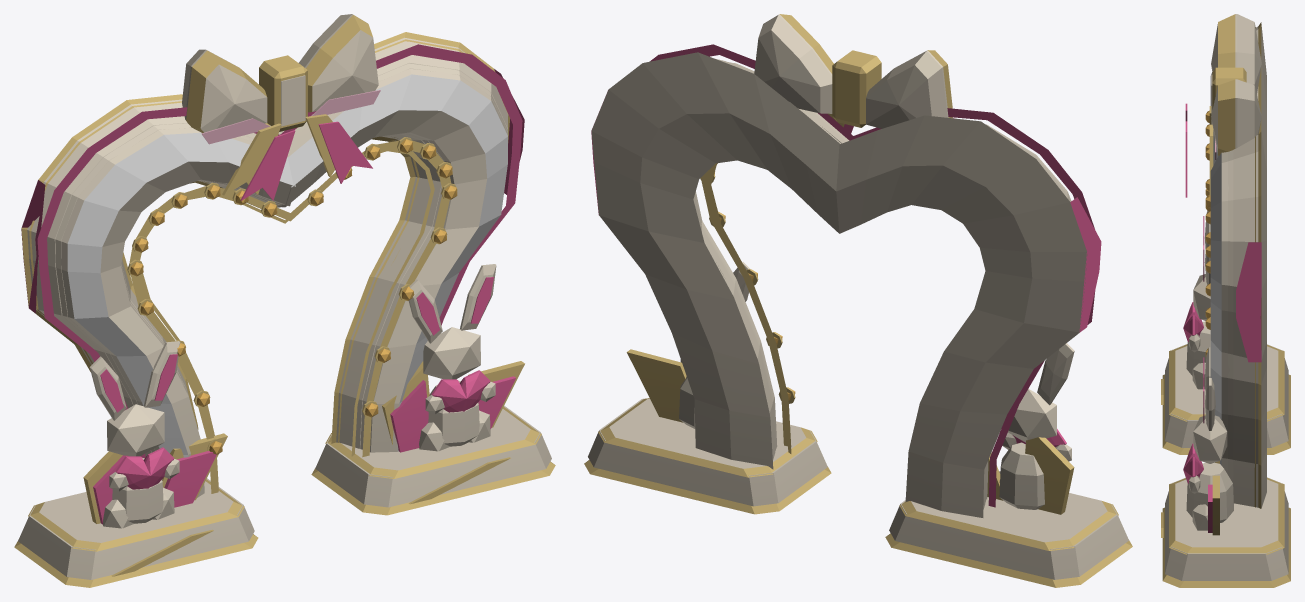
File: heart-gate.glb
3 views of the same model, side by side, from view 1: azimuth 30°, elevation 25°; view 2: azimuth 150°, elevation 25°; view 3: azimuth 270°, elevation 25° (orthographic). The views are drawn at different scales.
Parts seen in each view (by area): view 1: root_mesh, gate1_mesh, gate0_mesh, bob0_mesh, bob1_mesh; view 2: gate1_mesh, gate0_mesh, root_mesh, bob0_mesh, bob1_mesh; view 3: root_mesh, gate1_mesh, bob1_mesh, bob0_mesh, gate0_mesh.
Part boxes in pixels (left/top/right/bottom): root_mesh: left=14, top=14, right=555, bottom=587; gate1_mesh: left=266, top=32, right=524, bottom=457; gate0_mesh: left=21, top=94, right=295, bottom=497; bob0_mesh: left=89, top=341, right=180, bottom=528; bob1_mesh: left=408, top=264, right=496, bottom=451; gate1_mesh: left=591, top=44, right=853, bottom=469; gate0_mesh: left=836, top=108, right=1101, bottom=517; root_mesh: left=584, top=14, right=1132, bottom=587; bob0_mesh: left=999, top=343, right=1074, bottom=509; bob1_mesh: left=679, top=262, right=749, bottom=428; root_mesh: left=1161, top=14, right=1290, bottom=587; gate1_mesh: left=1205, top=132, right=1266, bottom=508; bob1_mesh: left=1183, top=347, right=1233, bottom=530; bob0_mesh: left=1183, top=211, right=1210, bottom=389; gate0_mesh: left=1205, top=22, right=1266, bottom=318.
Bounding box in the file's own units: 12 × 11 × 3.
